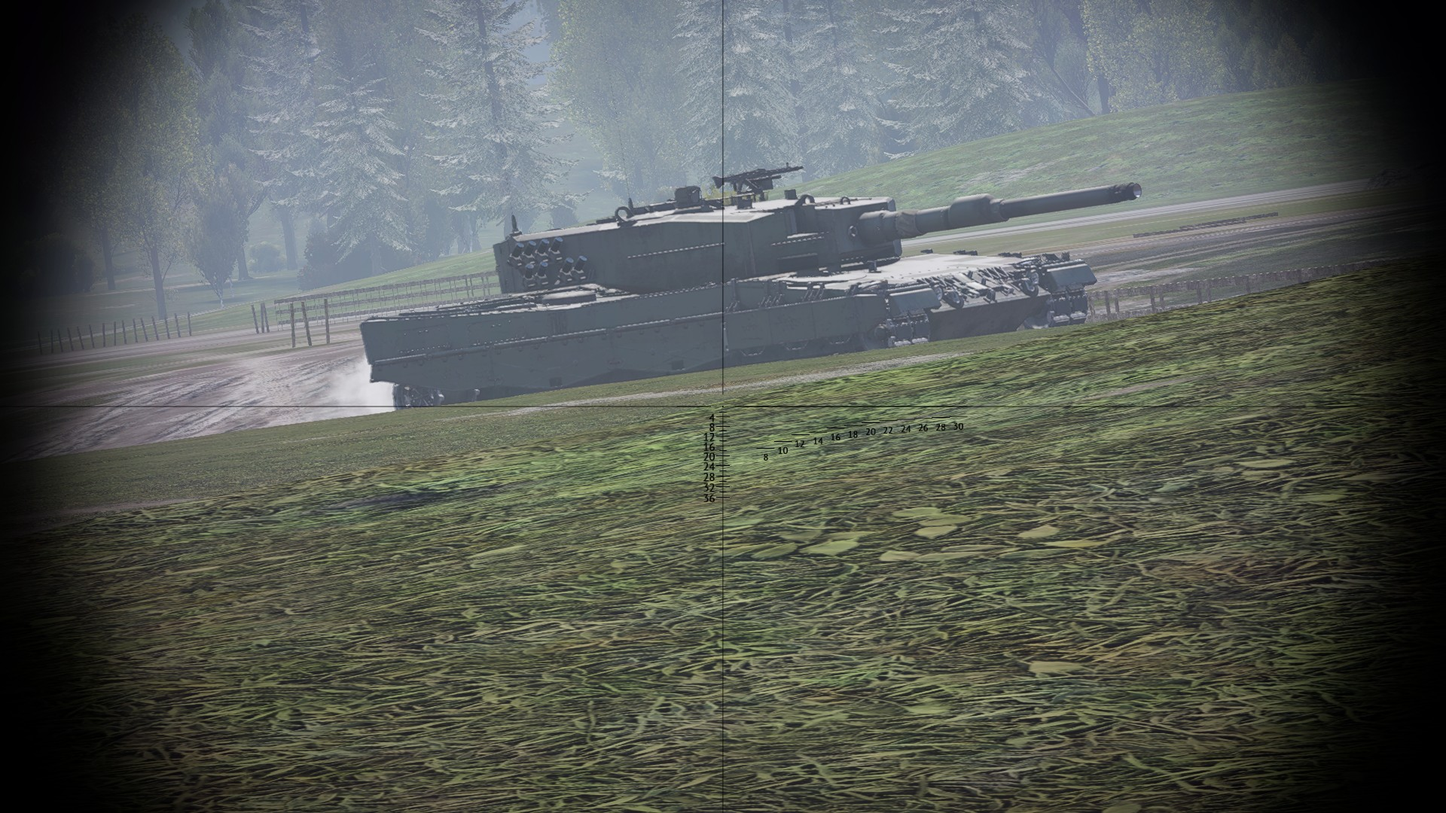leopard2: (362, 162, 1142, 410)
